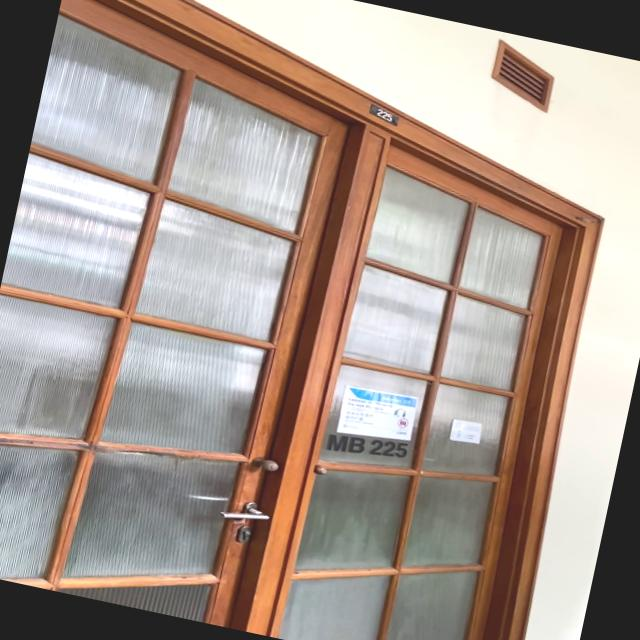room225: (363, 102, 402, 126)
room225Window: (322, 424, 412, 468)
